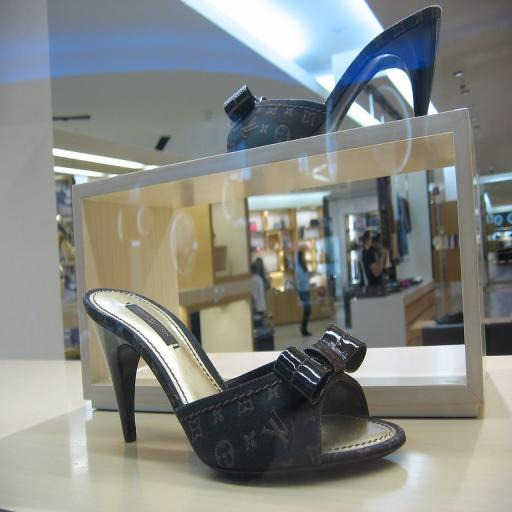heels: (83, 290, 405, 474), (224, 5, 441, 152)
